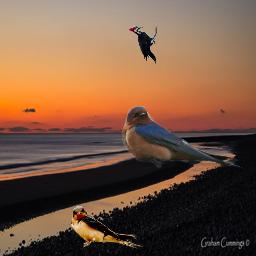Swallow: (122, 106, 245, 169), (70, 206, 143, 251)
Woodpecker: (128, 26, 157, 64)
